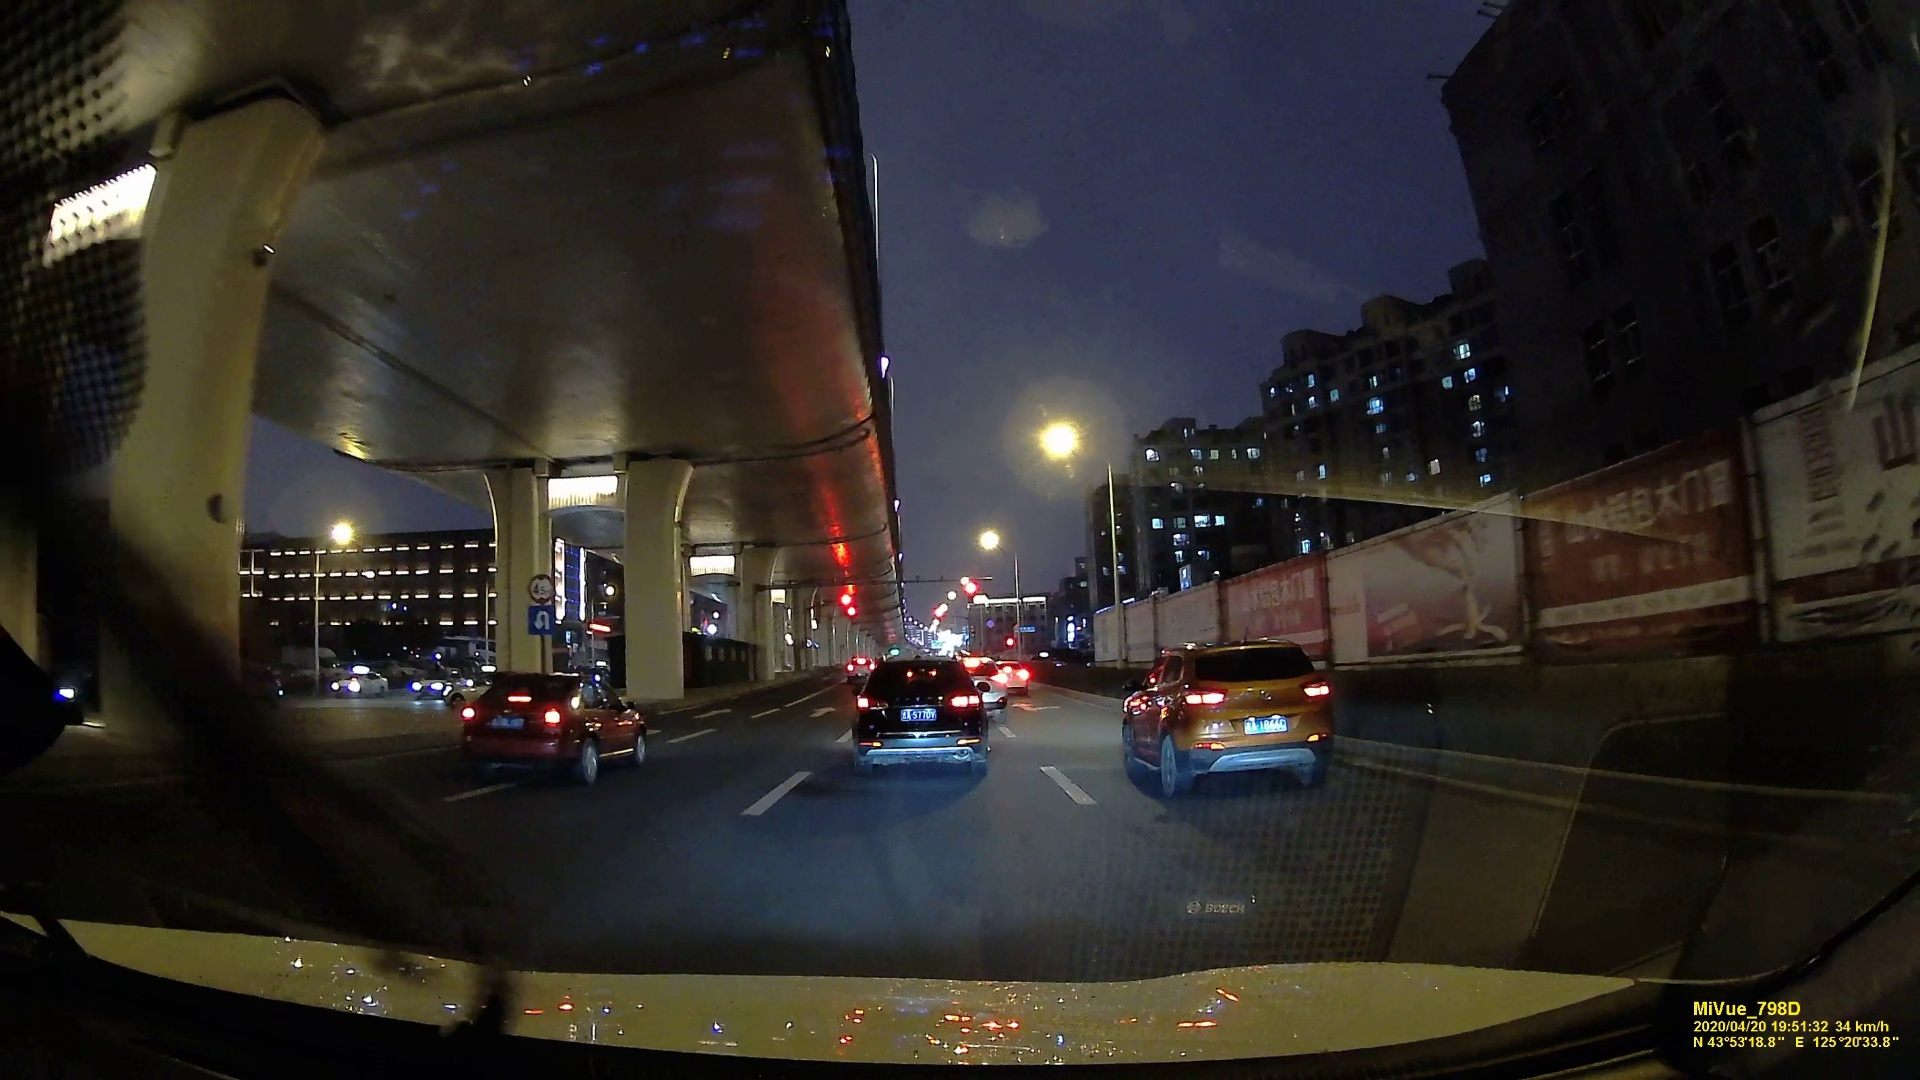traffic_sign: (526, 574, 558, 603), (526, 605, 556, 634)
vehicle: (1116, 636, 1342, 796), (447, 669, 644, 781), (848, 653, 996, 775), (330, 670, 385, 698), (990, 658, 1033, 692), (411, 669, 460, 698), (843, 653, 873, 680)
